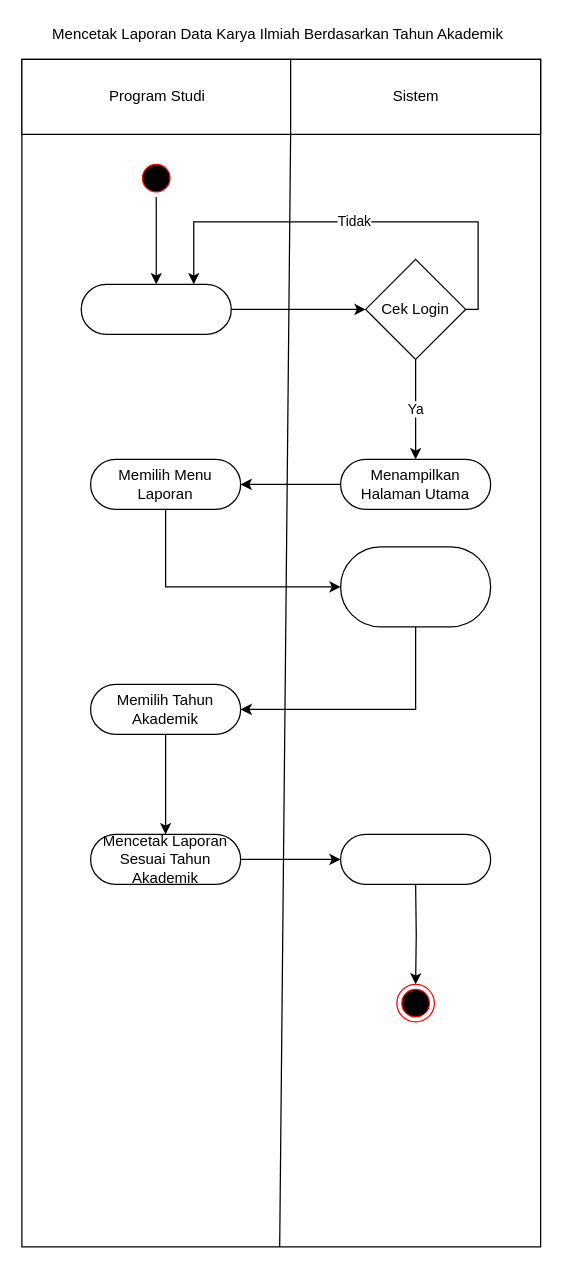
Image size: 563x1270. Some labels were removed from this diagram. Here are the shapes that lost their labels. From the top down, the centre of each, then its label:
the point at 155,308: Login
the point at 415,586: Menampilkan Form Laporan
the point at 415,858: Laporan Dicetak
